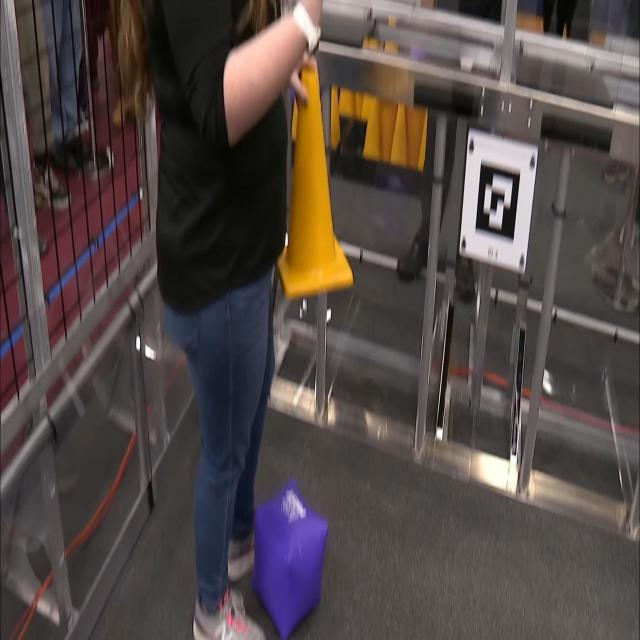frc_cone: (274, 67, 351, 300), (388, 98, 409, 172), (416, 113, 437, 183), (378, 95, 399, 161), (404, 97, 422, 173), (364, 98, 382, 162), (326, 84, 340, 158), (341, 80, 356, 116), (361, 84, 376, 118)
frc_cube: (253, 479, 328, 634)
